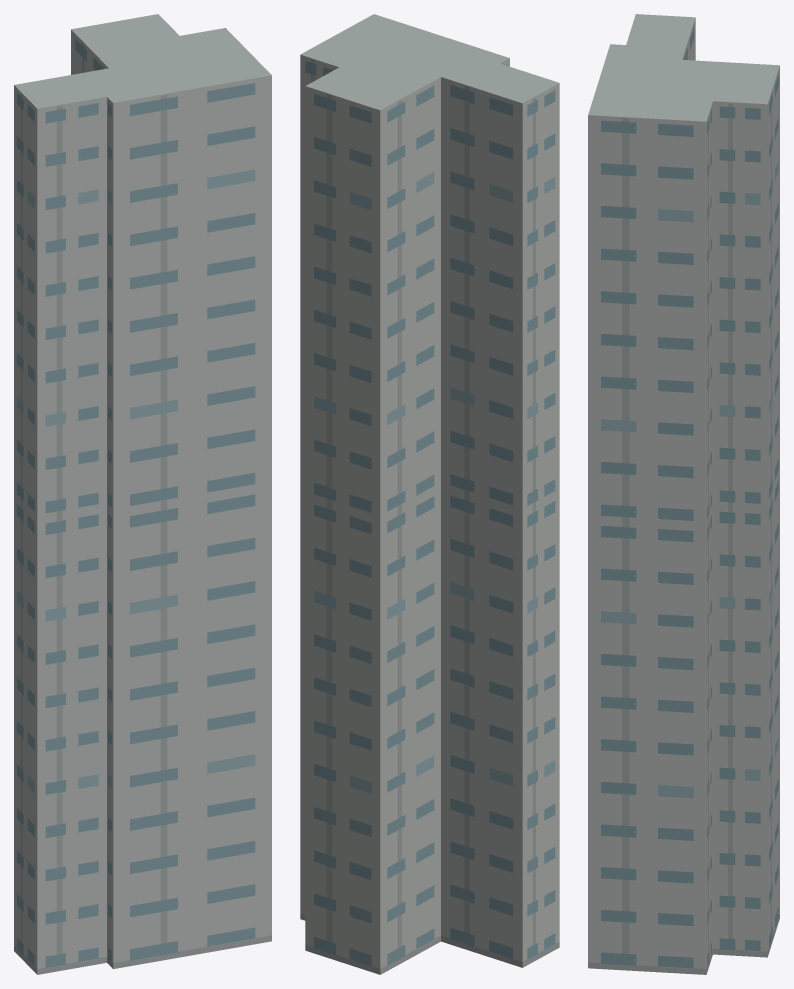
Rendered from residential-4ceb2237-cb4b-4e55-a06f-a8e4a339e0ee.glb.
3 views of the same model, side by side, from view 1: azimuth 30°, elevation 25°; view 2: azimuth 150°, elevation 25°; view 3: azimuth 270°, elevation 25° (orthographic).
Parts seen in each view (by area): view 1: residential-4ceb2237-cb4b-4e55-a06f-a8e4a339e0ee.tmp; view 2: residential-4ceb2237-cb4b-4e55-a06f-a8e4a339e0ee.tmp; view 3: residential-4ceb2237-cb4b-4e55-a06f-a8e4a339e0ee.tmp.
Part boxes in pixels (box(x1,y1,x2,y2)): residential-4ceb2237-cb4b-4e55-a06f-a8e4a339e0ee.tmp: box(14, 14, 271, 974); residential-4ceb2237-cb4b-4e55-a06f-a8e4a339e0ee.tmp: box(300, 14, 559, 974); residential-4ceb2237-cb4b-4e55-a06f-a8e4a339e0ee.tmp: box(588, 14, 779, 974).
Bounding box in the file's own units: 42.24 × 156 × 31.79.
